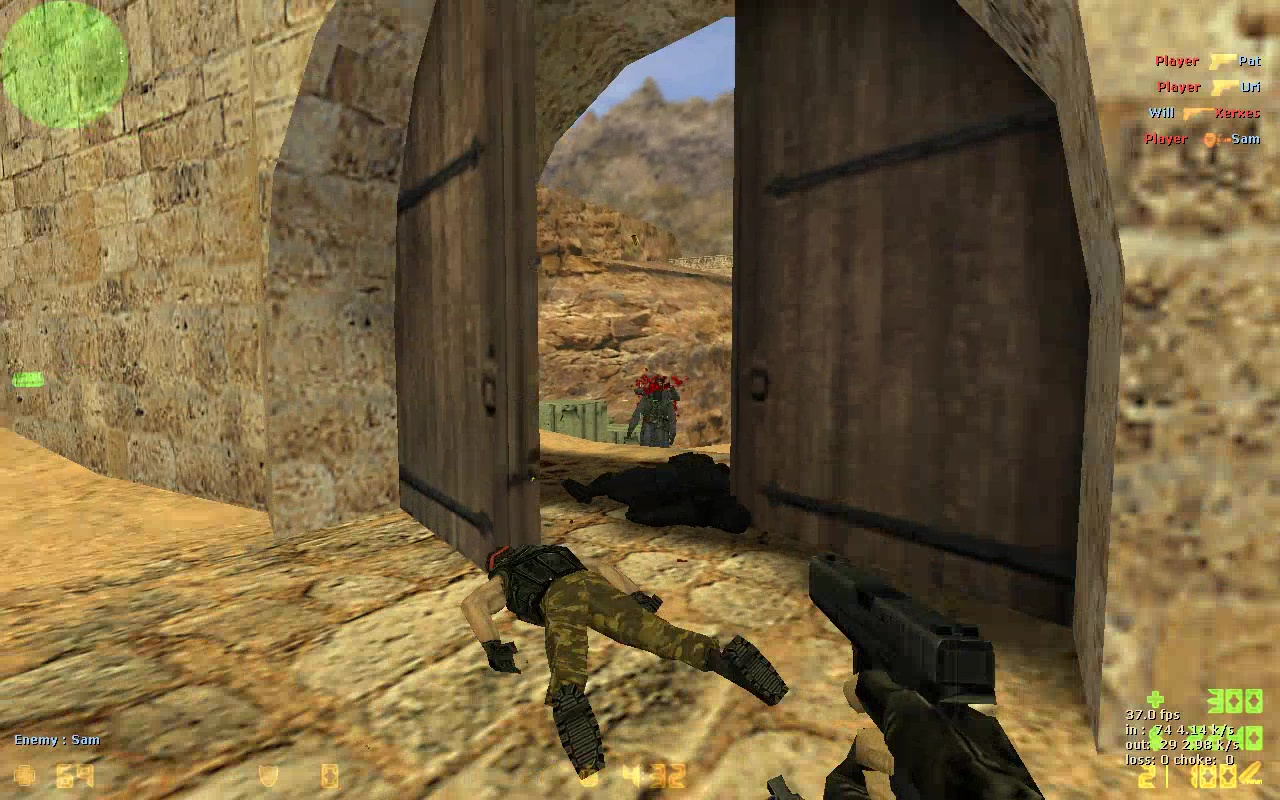ct: (629, 382, 678, 449)
dead: (462, 538, 787, 742), (563, 446, 751, 544)
